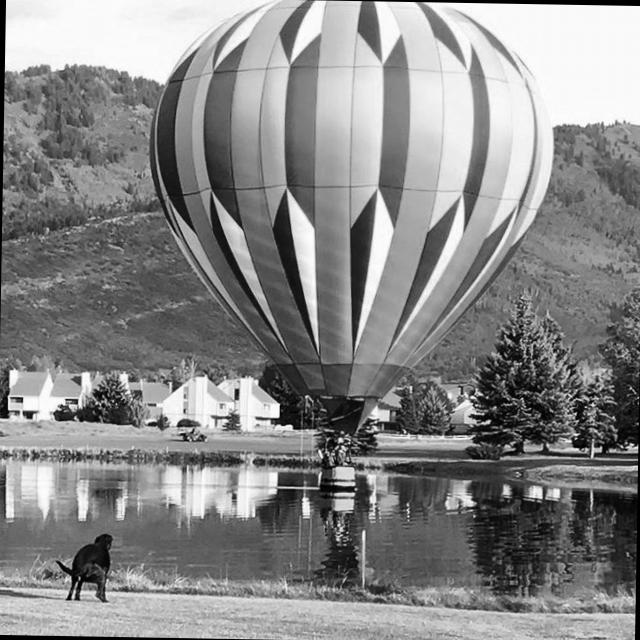squatting: (47, 523, 127, 606)
